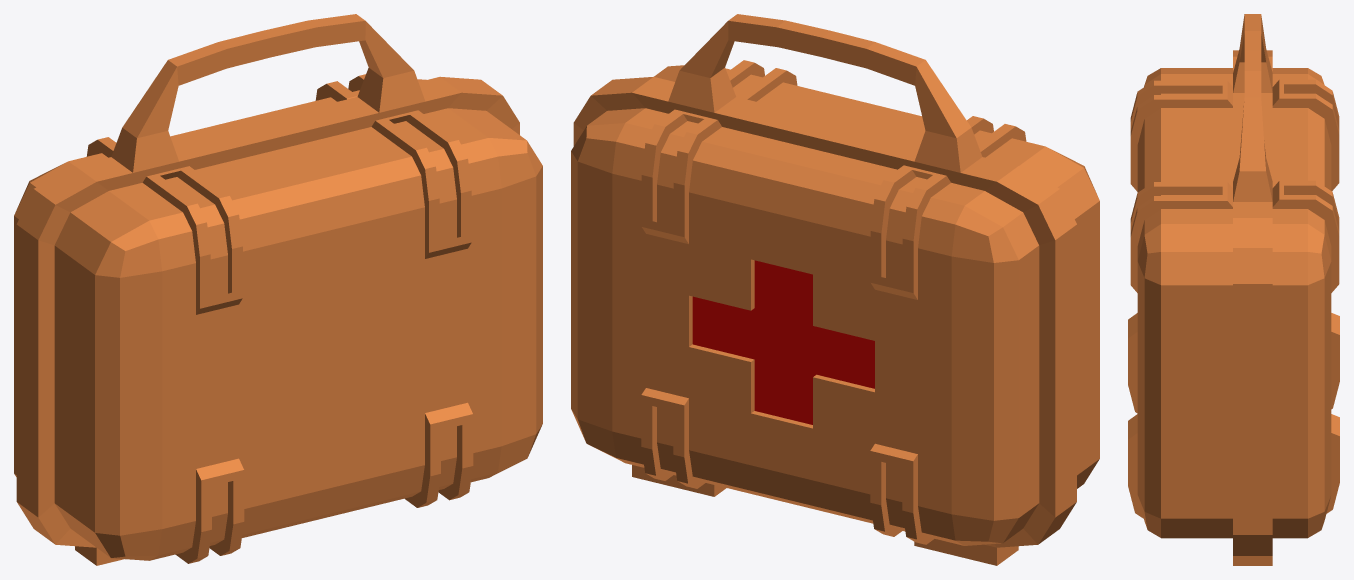
Rendered from Medpack_Textured_Baked.fbx.
The picture shows the model from 3 angles, left to right: view 1: azimuth 30°, elevation 25°; view 2: azimuth 150°, elevation 25°; view 3: azimuth 270°, elevation 25°; orthographic projection. The views are drawn at different scales.
Parts seen in each view (by area): view 1: Medkit.001; view 2: Medkit.001; view 3: Medkit.001.
Boxes of the visible parts, x1=… form: Medkit.001: x1=14, y1=14, x2=542, y2=565; Medkit.001: x1=571, y1=14, x2=1099, y2=565; Medkit.001: x1=1128, y1=14, x2=1339, y2=565.
Bounding box in the file's own units: 28.35 × 26.97 × 11.91.
